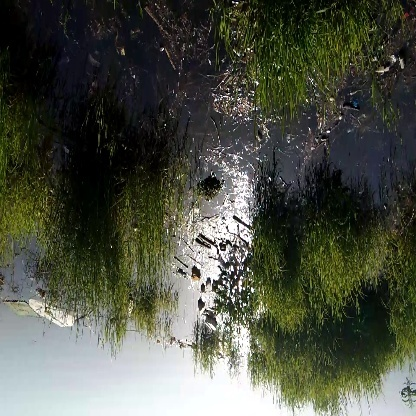plastic-bag: (30, 293, 87, 335)
